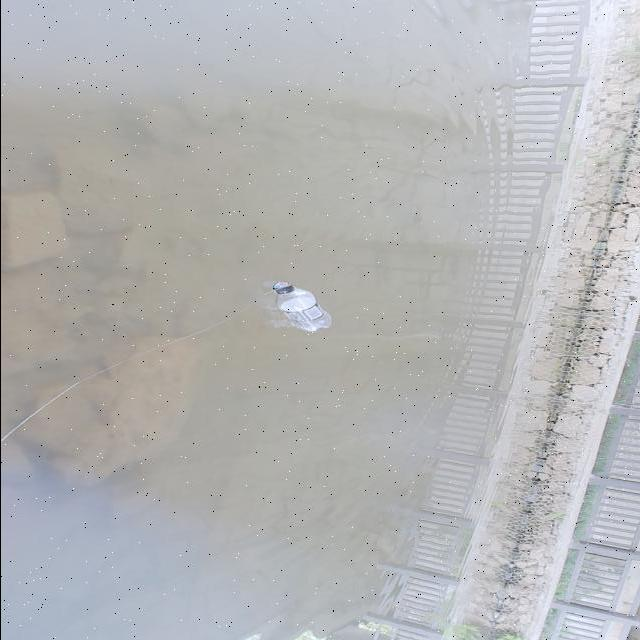Bottle: (268, 278, 336, 340)
